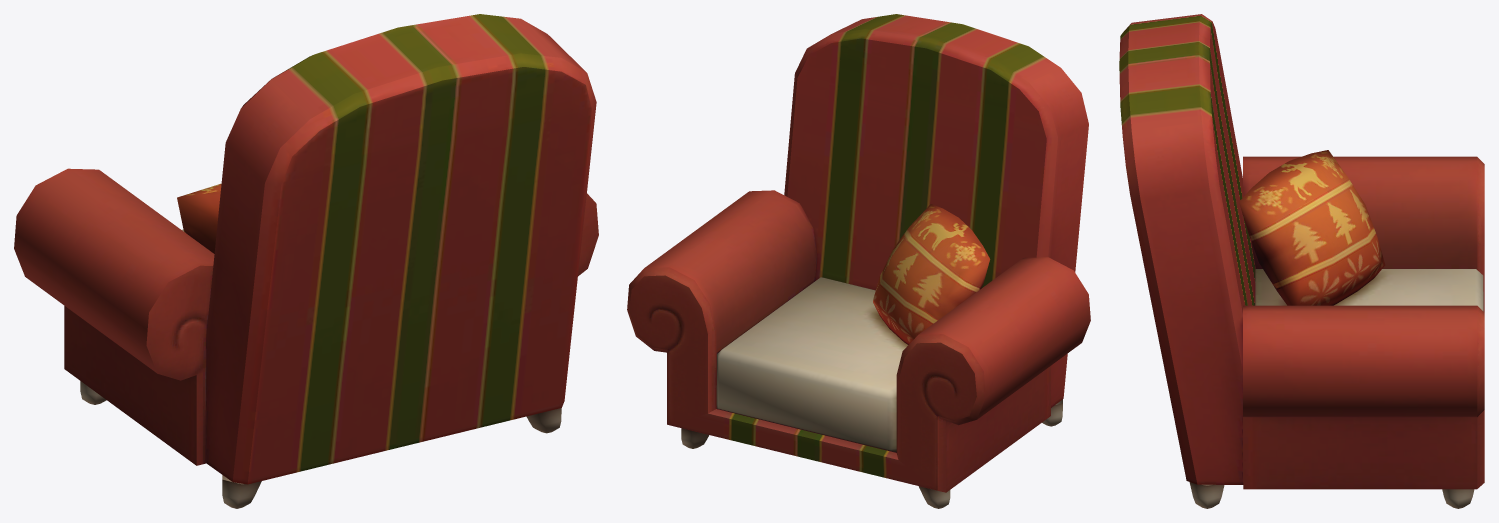
Rendered from furn_sd2016_chair_001.gltf.
3 renders of one model, left to right at view 1: azimuth 30°, elevation 25°; view 2: azimuth 150°, elevation 25°; view 3: azimuth 270°, elevation 25°, orthographic. The views are drawn at different scales.
Visible parts, largest first — view 1: sd2016_chair_001; view 2: sd2016_chair_001; view 3: sd2016_chair_001.
Part boxes in pixels (bbox=[...]): sd2016_chair_001: bbox=[14, 14, 598, 508]; sd2016_chair_001: bbox=[627, 14, 1090, 508]; sd2016_chair_001: bbox=[1119, 14, 1484, 508].
Size of the model in its own units: 0.6919 by 0.6491 by 0.5473.
1 material, 1 textured.
